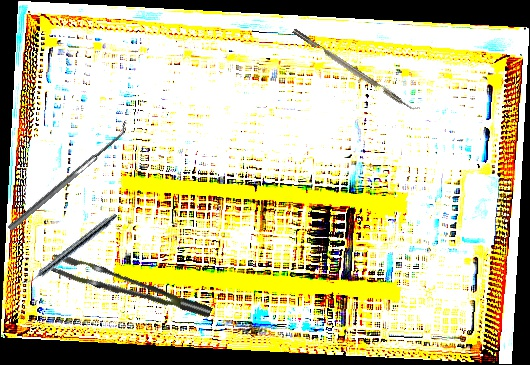Chopper: (292, 22, 422, 116)
Handpiece: (21, 210, 119, 290)
Spatula Surgical: (3, 120, 133, 232)
Tissue Forceps: (47, 237, 213, 340)
